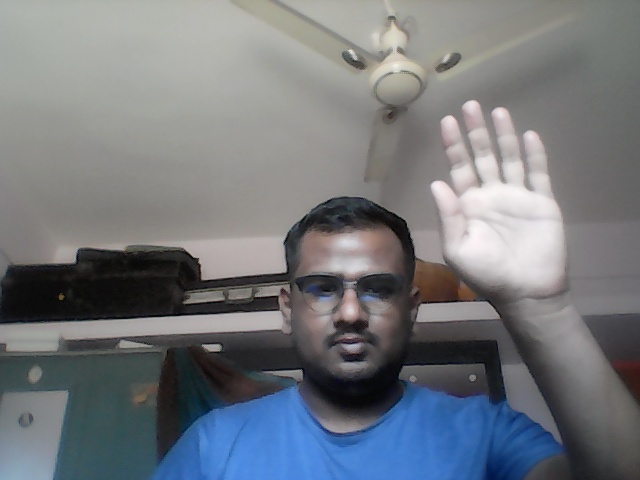Hello: (427, 98, 571, 304)
